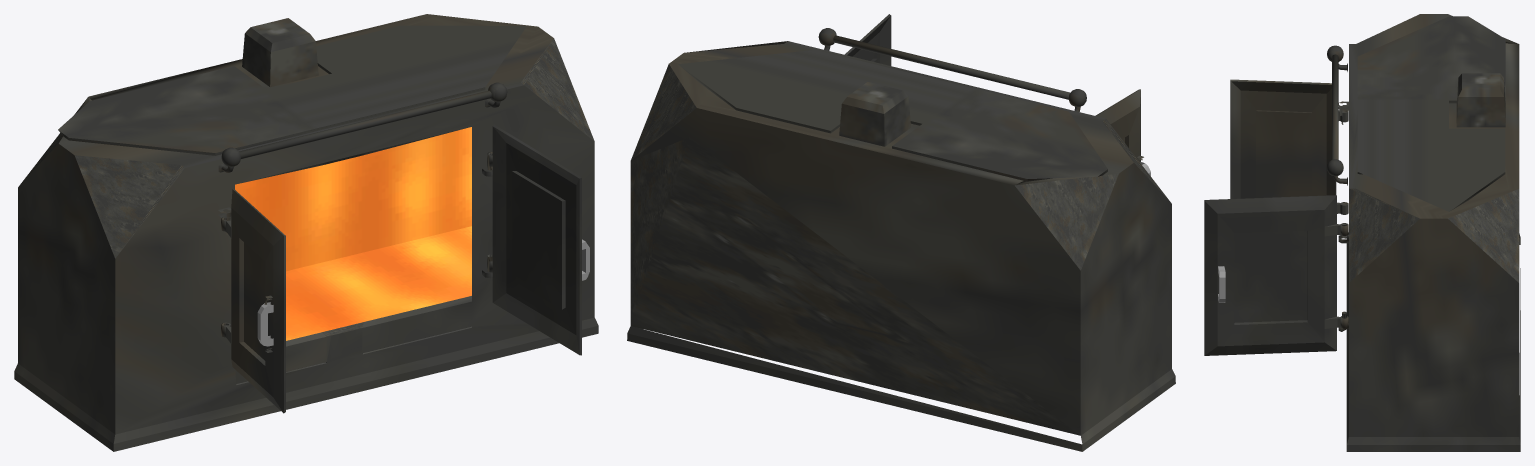
The model's file is furnace.glb.
3 views of the same model, side by side, from view 1: azimuth 30°, elevation 25°; view 2: azimuth 150°, elevation 25°; view 3: azimuth 270°, elevation 25° (orthographic). The views are drawn at different scales.
Parts seen in each view (by area): view 1: CastIronStove_WithoutDoors; view 2: CastIronStove_WithoutDoors; view 3: CastIronStove_WithoutDoors.
Part boxes in pixels (box(x1,y1,x2,y2)): CastIronStove_WithoutDoors: box(14, 14, 598, 451); CastIronStove_WithoutDoors: box(627, 14, 1175, 451); CastIronStove_WithoutDoors: box(1204, 14, 1520, 451).
Bounding box in the file's own units: 6.18 × 3.72 × 3.99.
3 materials, 2 textured.
